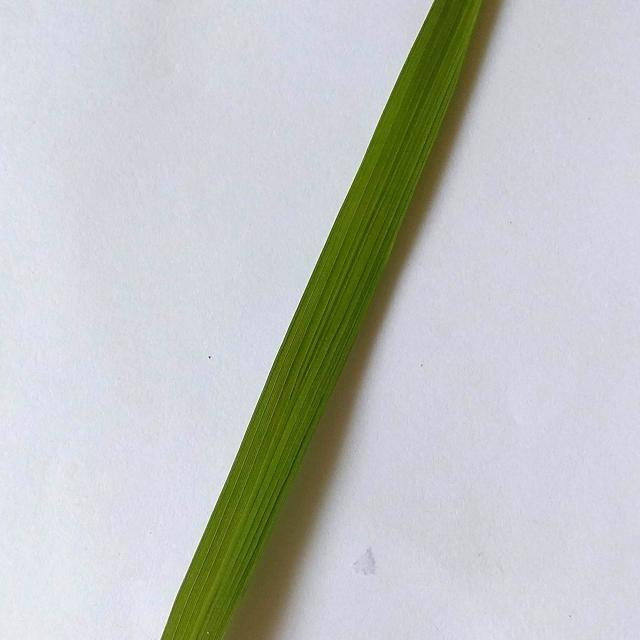Rice_Healthy: (161, 0, 481, 640)
